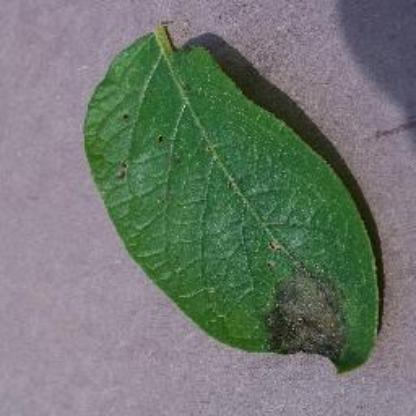Late-Blight: (72, 10, 392, 382)
